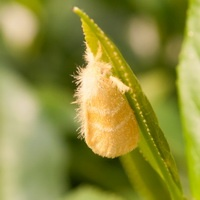insect: (73, 7, 138, 157), (74, 46, 138, 157)
